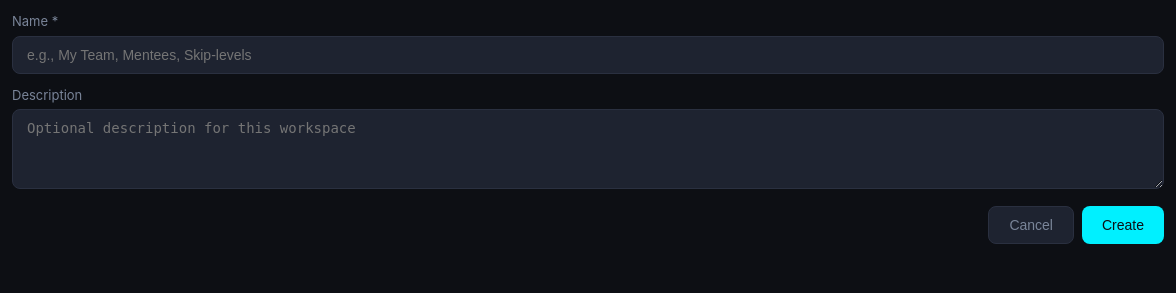
Test: WorkspaceForm › should show error when name is blank
Click the button "Create".
click(1123, 225)  # box top-left (1082, 206), bottom-right (1164, 244)
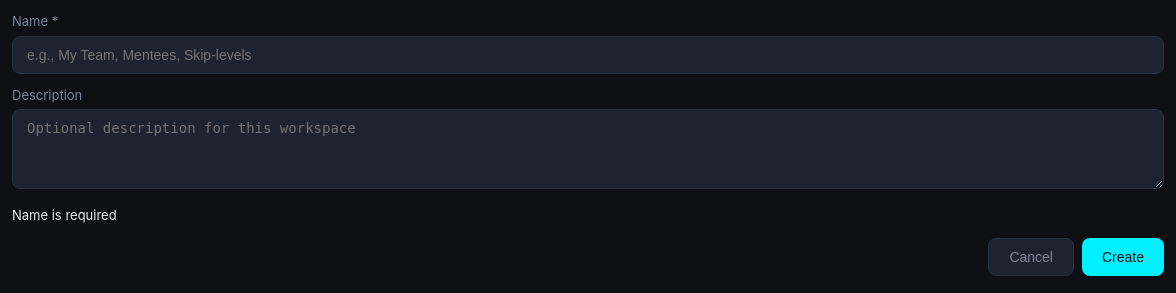
Expected: the text with test id "workspace-form-error" reads "Name is required", top-left (12, 207), bottom-right (117, 223)
